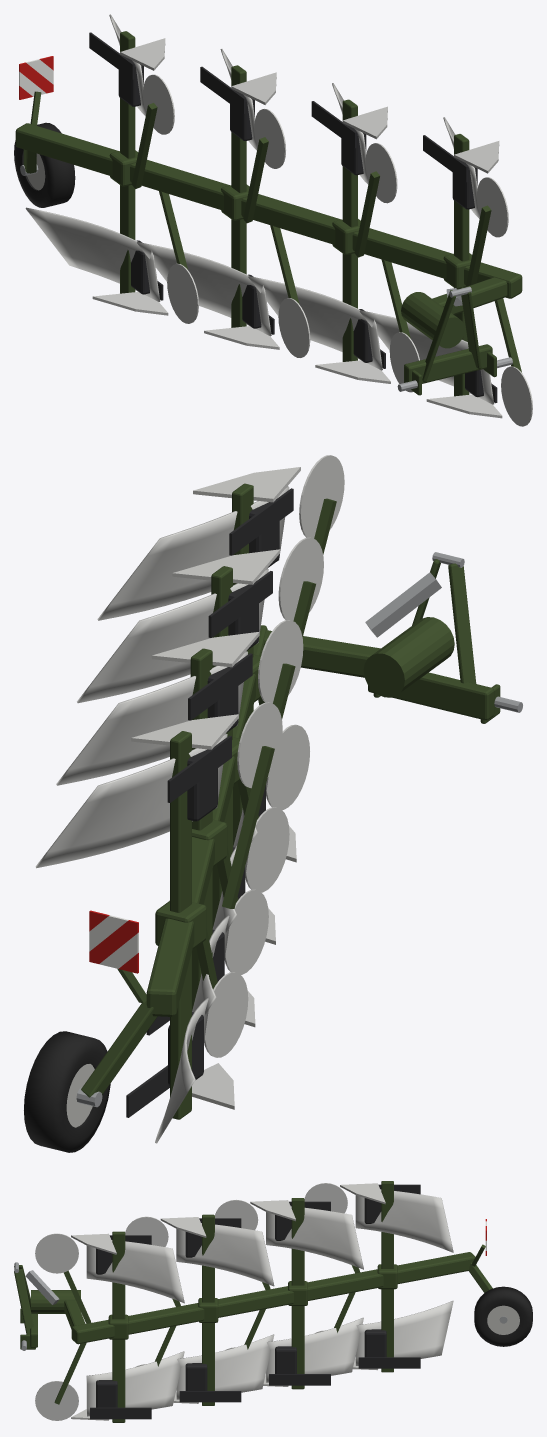
The model's file is arado.glb.
The picture shows the model from 3 angles, top to bottom: view 1: azimuth 30°, elevation 25°; view 2: azimuth 150°, elevation 25°; view 3: azimuth 270°, elevation 25°; orthographic projection. The views are drawn at different scales.
Parts seen in each view (by area): view 1: bastidor, rejas, vertederas, cuchillas, rueda_control, senales; view 2: bastidor, vertederas, rejas, cuchillas, rueda_control, senales; view 3: vertederas, bastidor, rejas, cuchillas, rueda_control.
Part boxes in pixels (left/top/right/bottom): bastidor: left=15, top=31, right=522, bottom=396; rejas: left=89, top=32, right=521, bottom=418; vertederas: left=25, top=14, right=494, bottom=404; cuchillas: left=143, top=74, right=532, bottom=426; rueda_control: left=14, top=122, right=75, bottom=207; senales: left=19, top=56, right=53, bottom=99; bastidor: left=117, top=483, right=522, bottom=1119; vertederas: left=35, top=486, right=289, bottom=1143; rejas: left=126, top=467, right=336, bottom=1117; cuchillas: left=204, top=455, right=344, bottom=1057; rueda_control: left=24, top=1001, right=157, bottom=1152; senales: left=89, top=910, right=138, bottom=973; vertederas: left=86, top=1189, right=453, bottom=1416; bastidor: left=14, top=1181, right=485, bottom=1422; rejas: left=54, top=1183, right=420, bottom=1420; cuchillas: left=35, top=1183, right=347, bottom=1420; rueda_control: left=468, top=1262, right=532, bottom=1346.
Size of the model in its own units: 2.13 by 2.1 by 5.21.
